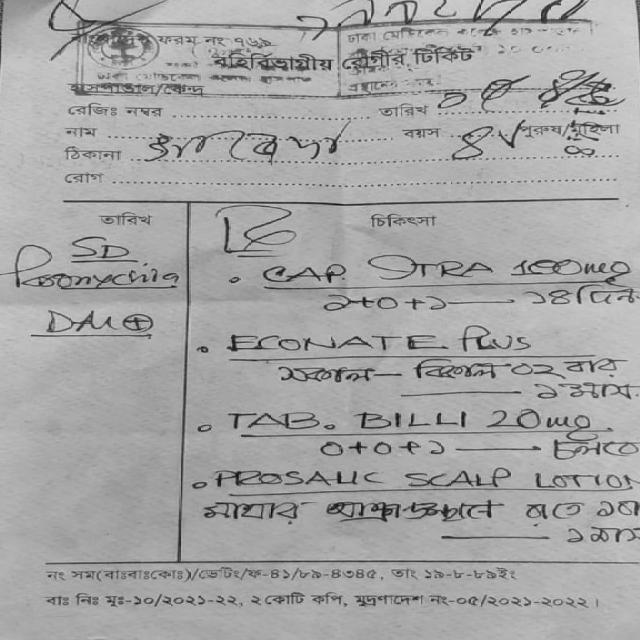medicine: (215, 325, 456, 363), (206, 459, 398, 496), (364, 242, 506, 286), (344, 400, 489, 436)
